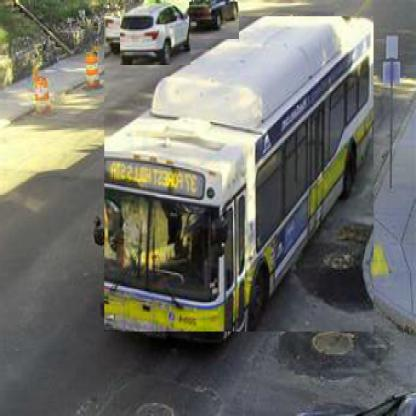bus: (104, 17, 375, 334)
car: (120, 4, 191, 68), (189, 3, 240, 42)
